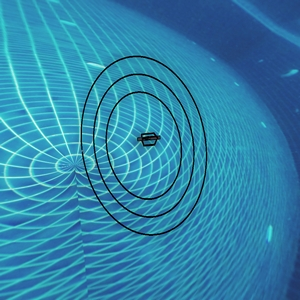circle: (79, 48, 210, 242)
submarine: (140, 128, 160, 146)
